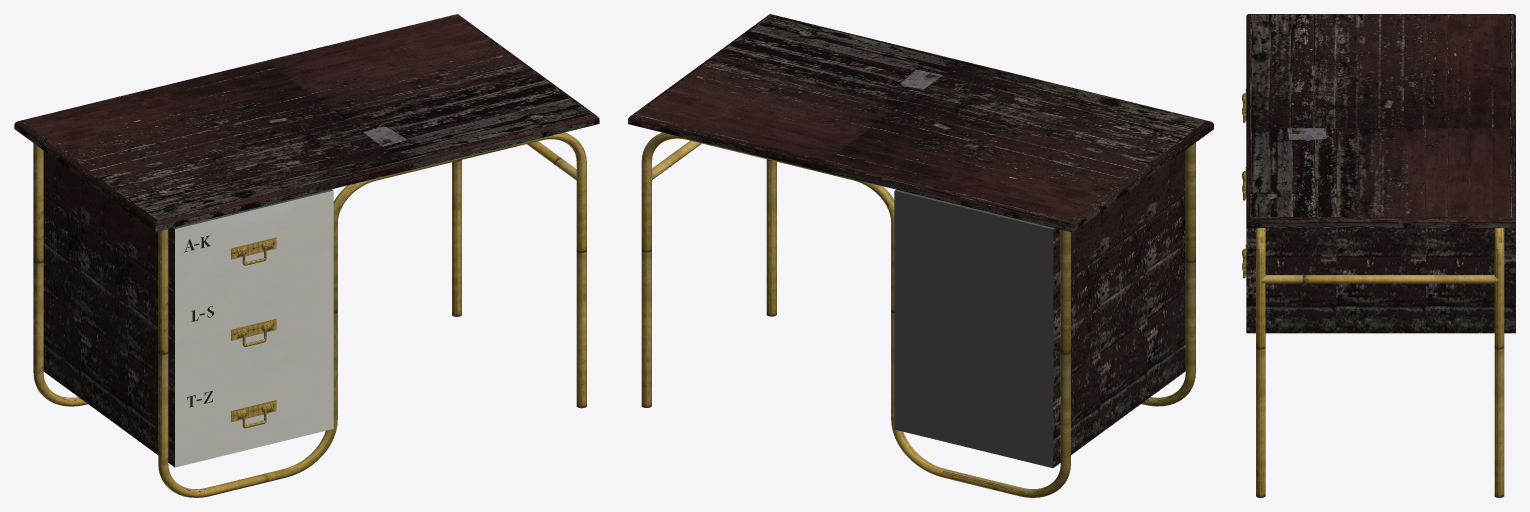
The model's file is Desk.dae.
3 renders of one model, left to right at view 1: azimuth 30°, elevation 25°; view 2: azimuth 150°, elevation 25°; view 3: azimuth 270°, elevation 25°, orthographic. The views are drawn at different scales.
Parts seen in each view (by area): view 1: group_4, group_7 (×2), group_6, group_3, group_1, group_12, group_10, group_13; view 2: group_4, group_5, group_6, group_1, group_3; view 3: group_4, group_15, group_16, group_17, group_1, group_3, group_2.
Part boxes in pixels (x1,y1,x2,y2): group_4: (14, 14, 599, 232); group_7 (×2): (172, 190, 333, 467); group_6: (43, 151, 172, 465); group_3: (158, 132, 586, 497); group_1: (33, 143, 461, 406); group_12: (231, 318, 276, 346); group_10: (231, 400, 276, 428); group_13: (231, 237, 276, 265); group_4: (628, 14, 1213, 232); group_5: (894, 189, 1054, 467); group_6: (1053, 150, 1185, 467); group_1: (641, 132, 1070, 497); group_3: (766, 142, 1195, 406); group_4: (1246, 14, 1515, 227); group_15: (1336, 228, 1425, 333); group_16: (1246, 228, 1336, 333); group_17: (1426, 228, 1515, 333); group_1: (1494, 228, 1504, 497); group_3: (1256, 228, 1265, 497); group_2: (1261, 275, 1498, 283).
Size of the model in its own units: 47.24 by 26.4 by 29.92.
